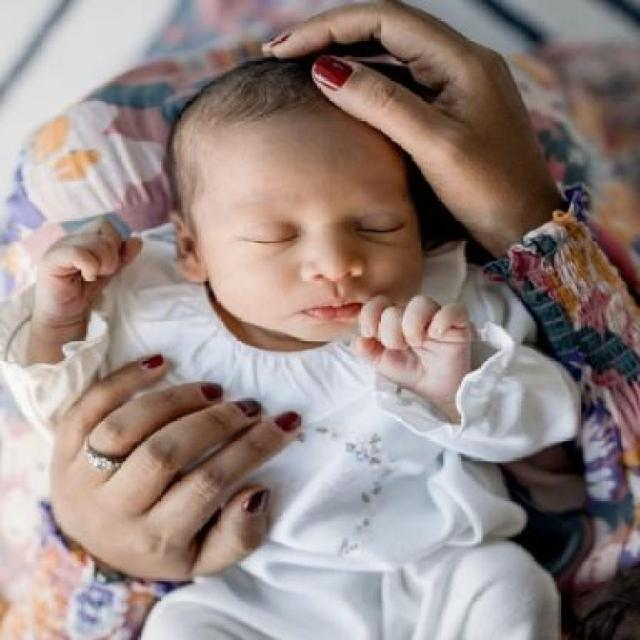baby: (12, 43, 562, 639)
